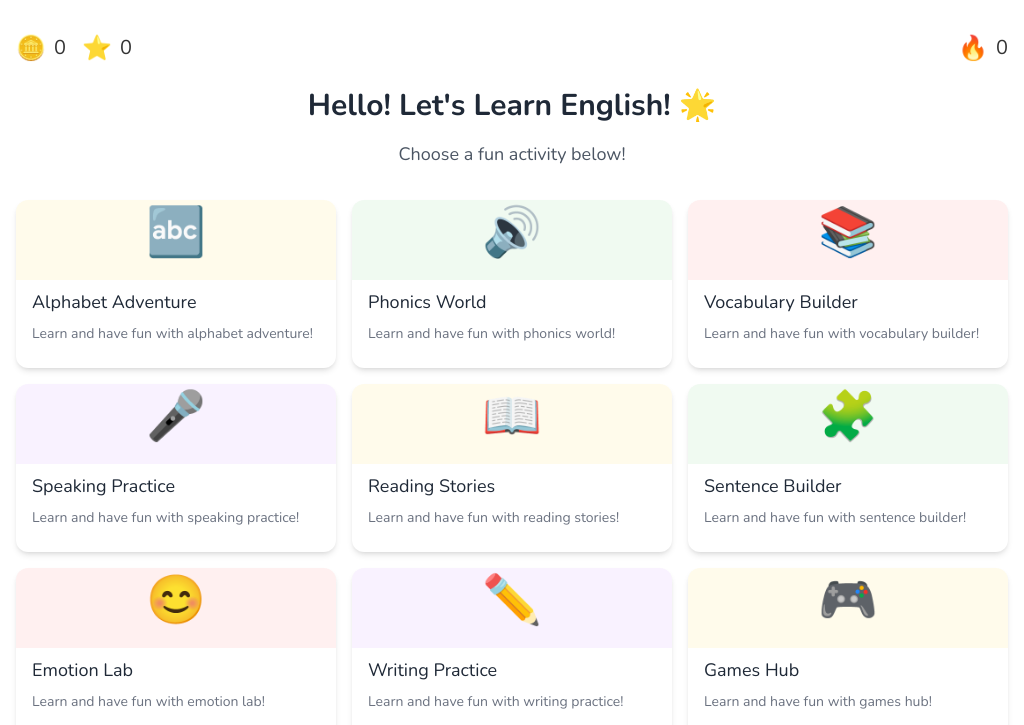
Home to Alphabet flow › navigates to alphabet grid when clicking alphabet card
What coordinates should you click on to do the following:
click the link "Alphabet Adventure"
I would click on:
 (176, 240)
Its box is [16,200,336,368].
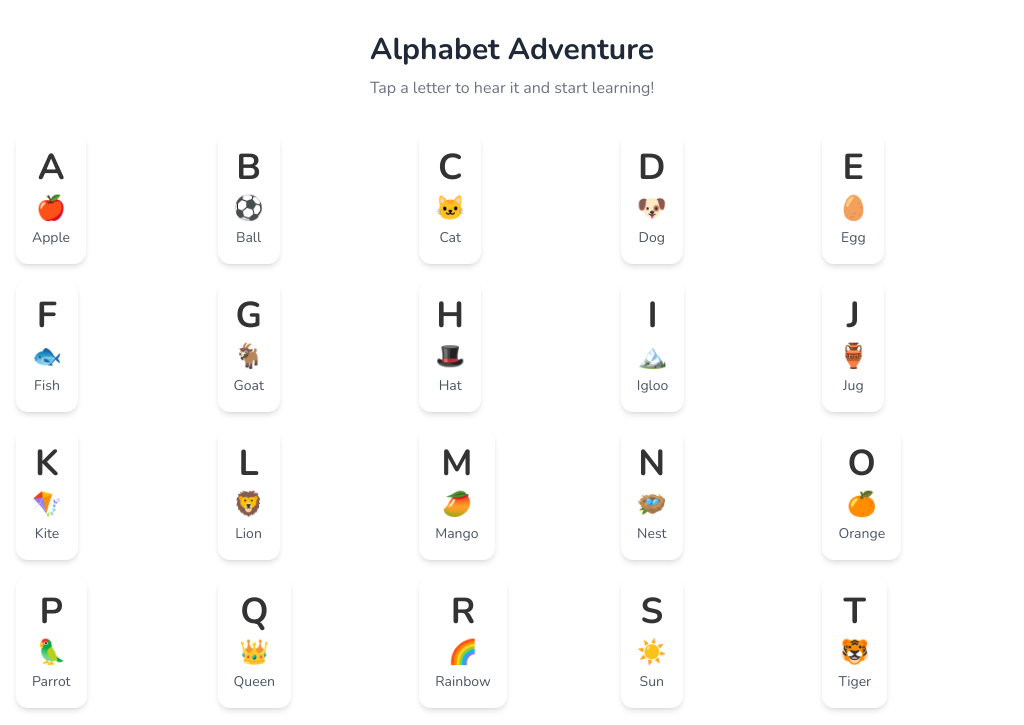
Expected: the heading "Alphabet Adventure" is shown, [370,29,654,70]
Expected: the text "Tap a letter to hear it and start learning!" is shown, [370,77,654,99]
